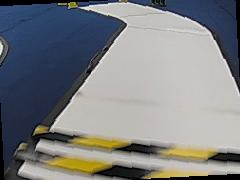bump: (4, 128, 240, 179)
